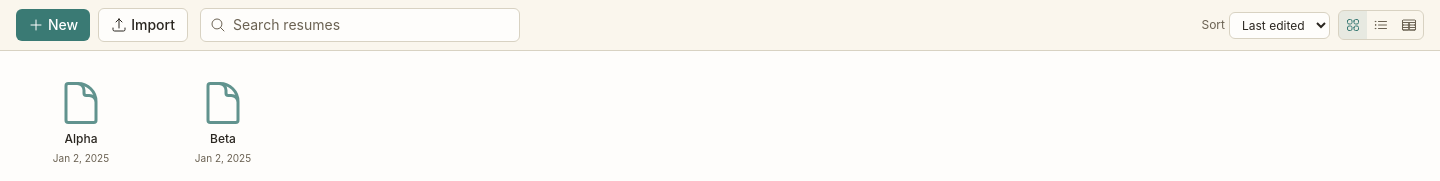
it: <MyResumesApp> › search filters by name
Expected: the text "Alpha" is shown, left=64, top=131, right=98, bottom=147
In the search field labelled "Search resumes": (360, 25) left=200, top=8, right=520, bottom=42, type "bet"
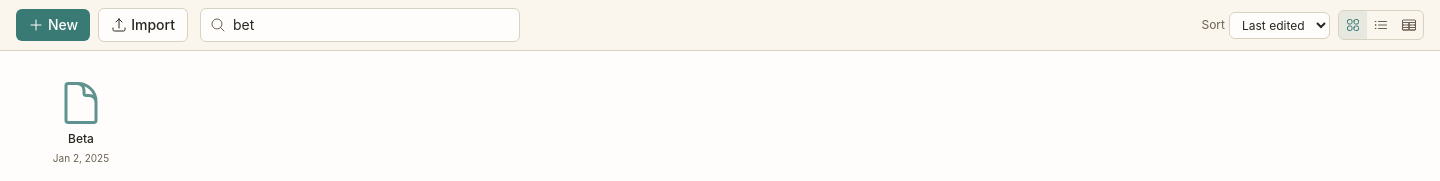
Expected: the text "Beta" is shown, left=68, top=131, right=94, bottom=147
Now the button "Alpha" is gone
